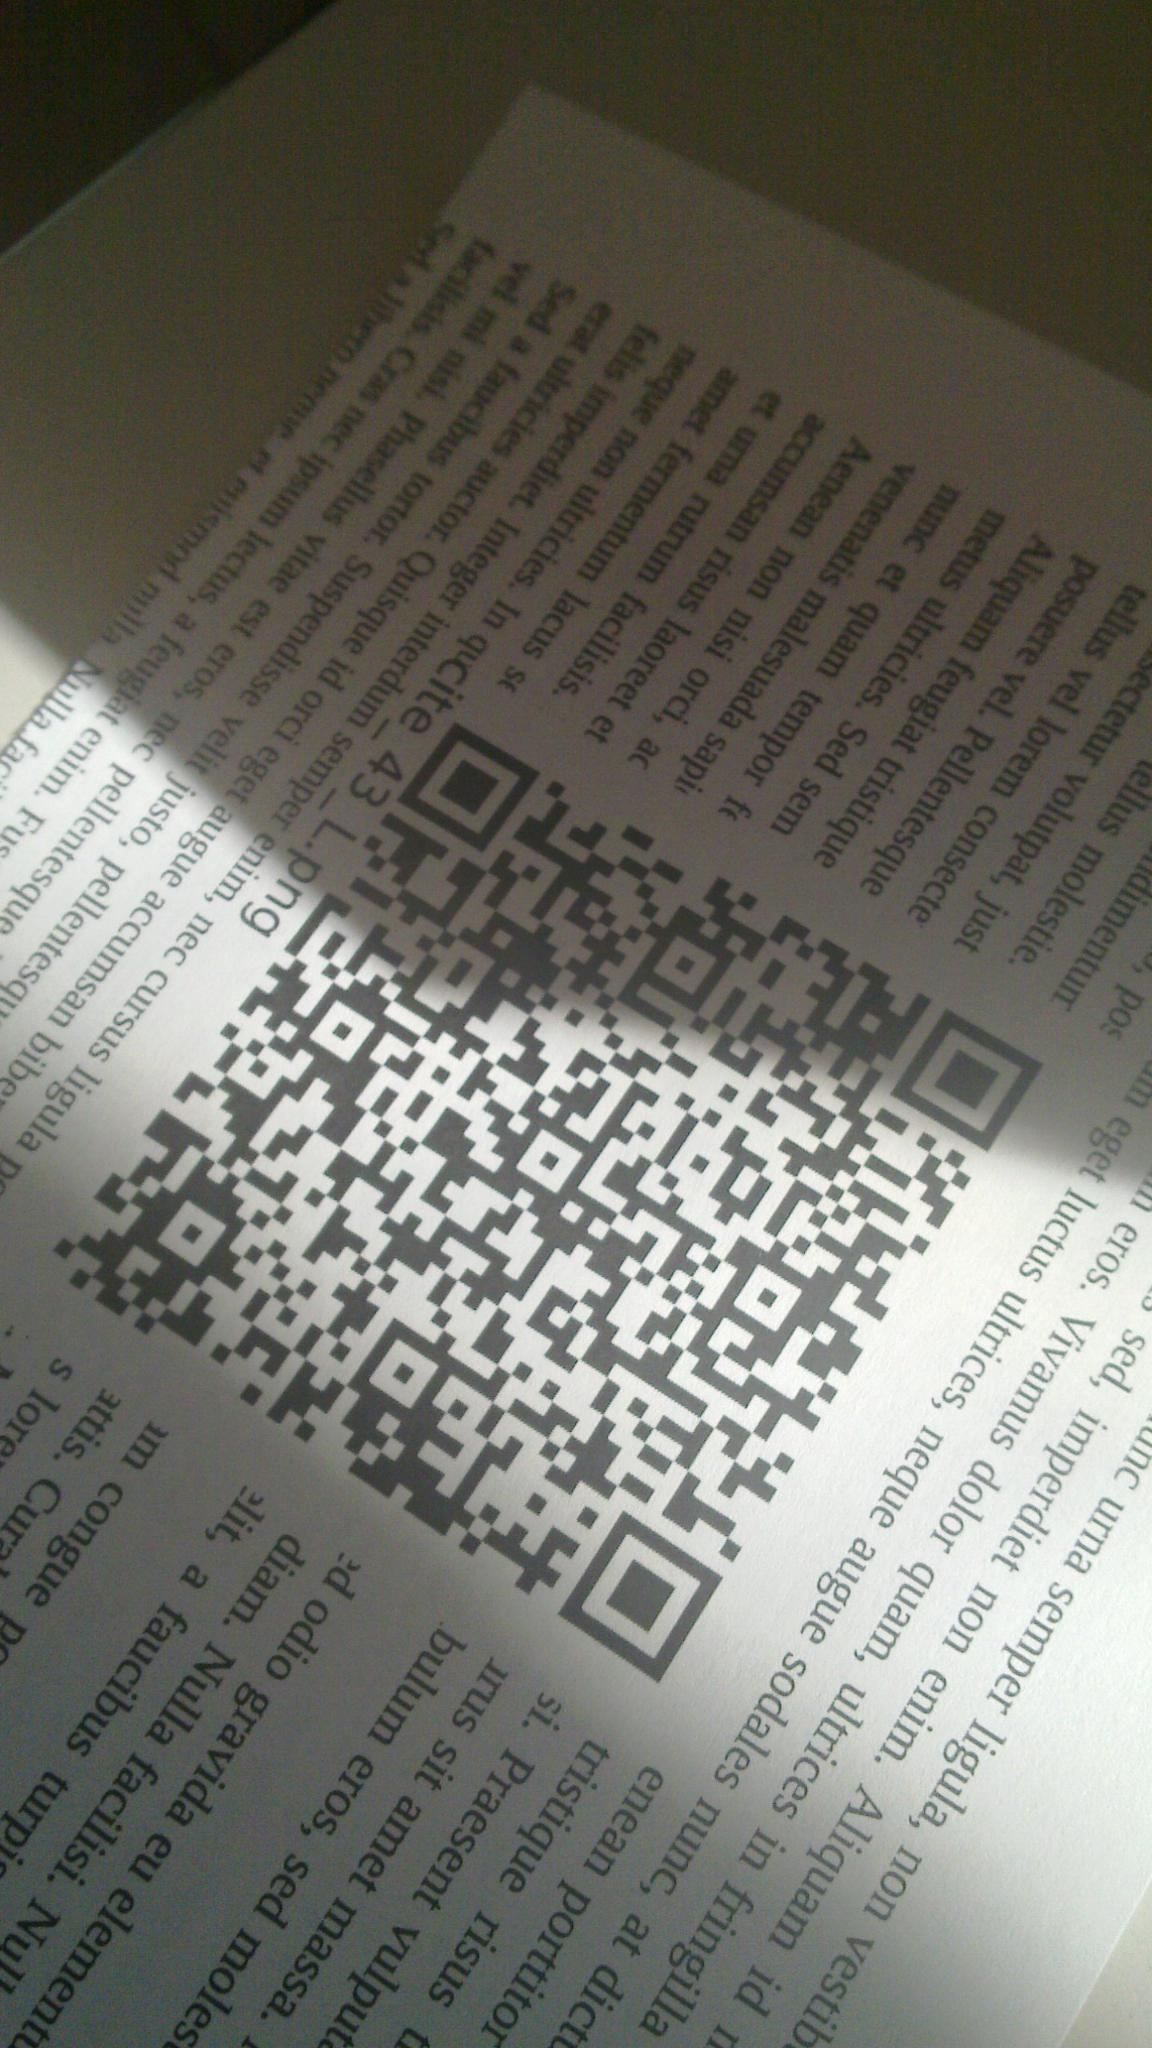Finder pattern: (549, 1513, 738, 1684), (383, 720, 550, 859), (892, 1010, 1045, 1162)
